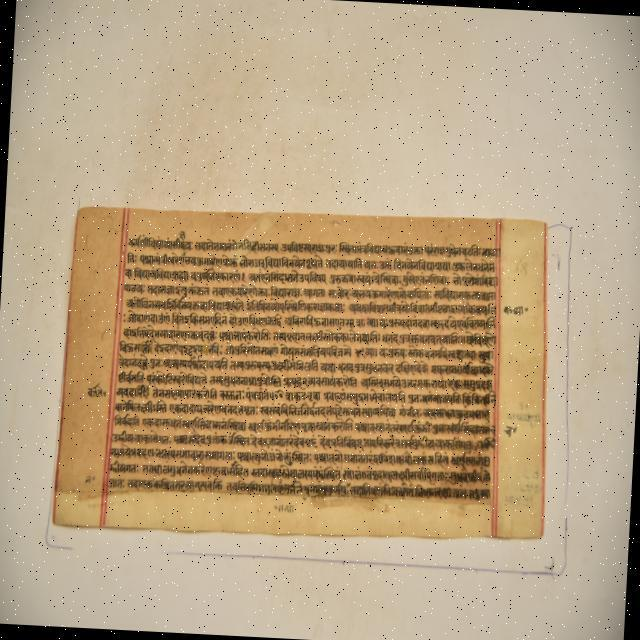text_paragraph: (49, 207, 545, 538)
